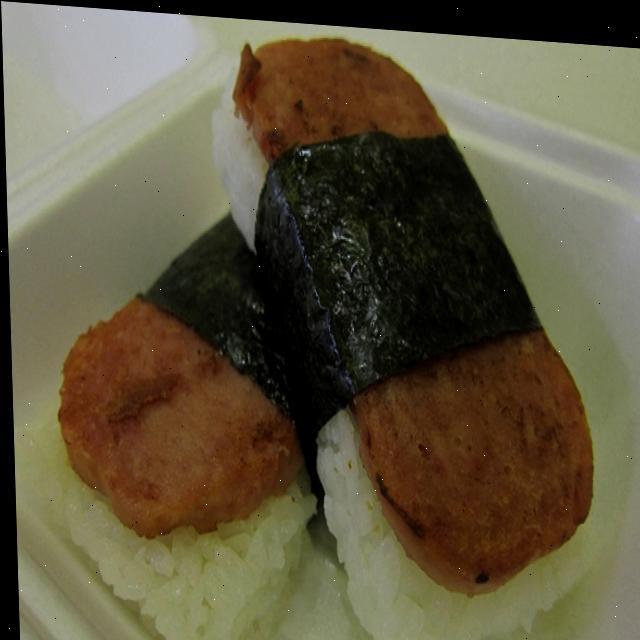寿司卷物: (53, 13, 604, 635)
